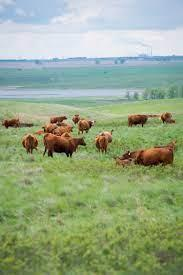cow: (40, 134, 87, 160), (118, 148, 176, 169), (20, 133, 40, 155), (96, 130, 113, 153), (128, 112, 148, 127), (79, 119, 96, 134), (2, 117, 21, 130), (50, 114, 69, 126), (53, 125, 74, 135), (42, 125, 57, 133), (161, 112, 171, 124), (71, 114, 80, 124)
